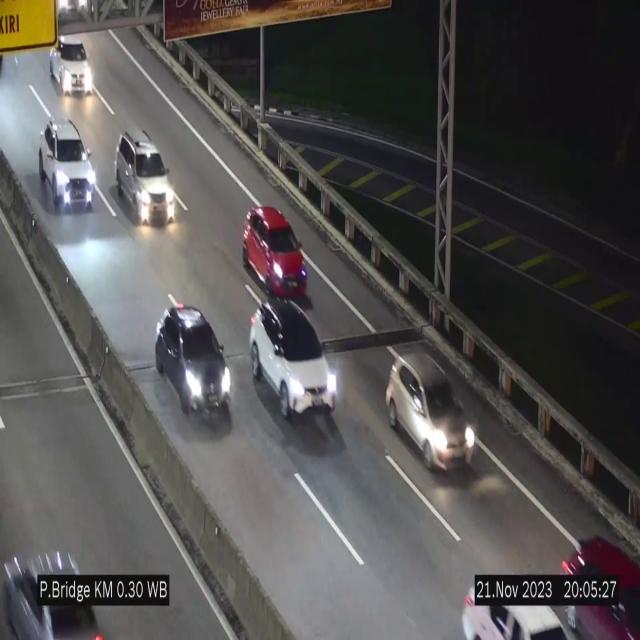Car: (5, 521, 111, 640), (386, 356, 478, 478), (249, 296, 337, 416), (153, 304, 233, 423), (563, 523, 640, 640), (458, 567, 572, 640), (242, 205, 307, 296), (116, 130, 176, 226), (40, 116, 96, 212), (46, 34, 93, 98)
